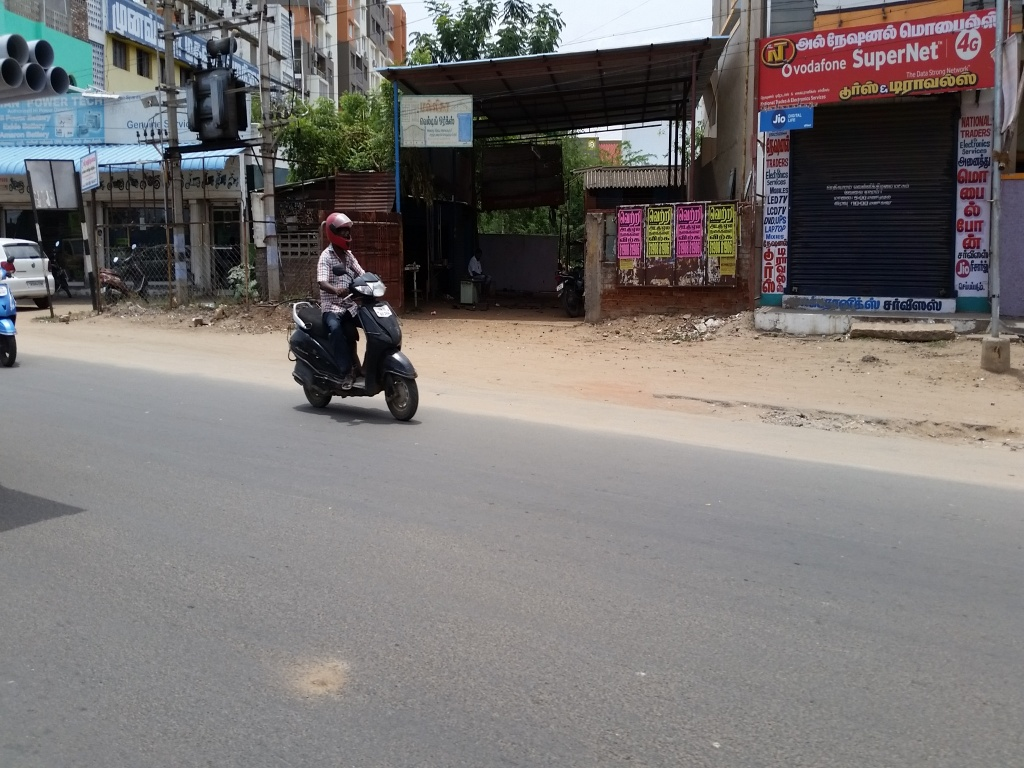biker: (274, 182, 432, 434)
helmet: (316, 200, 365, 263)
